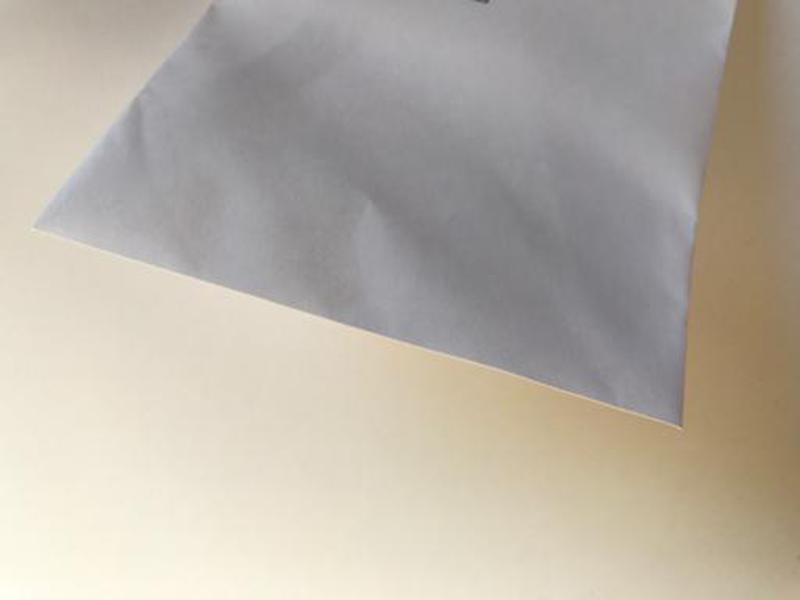paper: (28, 1, 738, 441)
